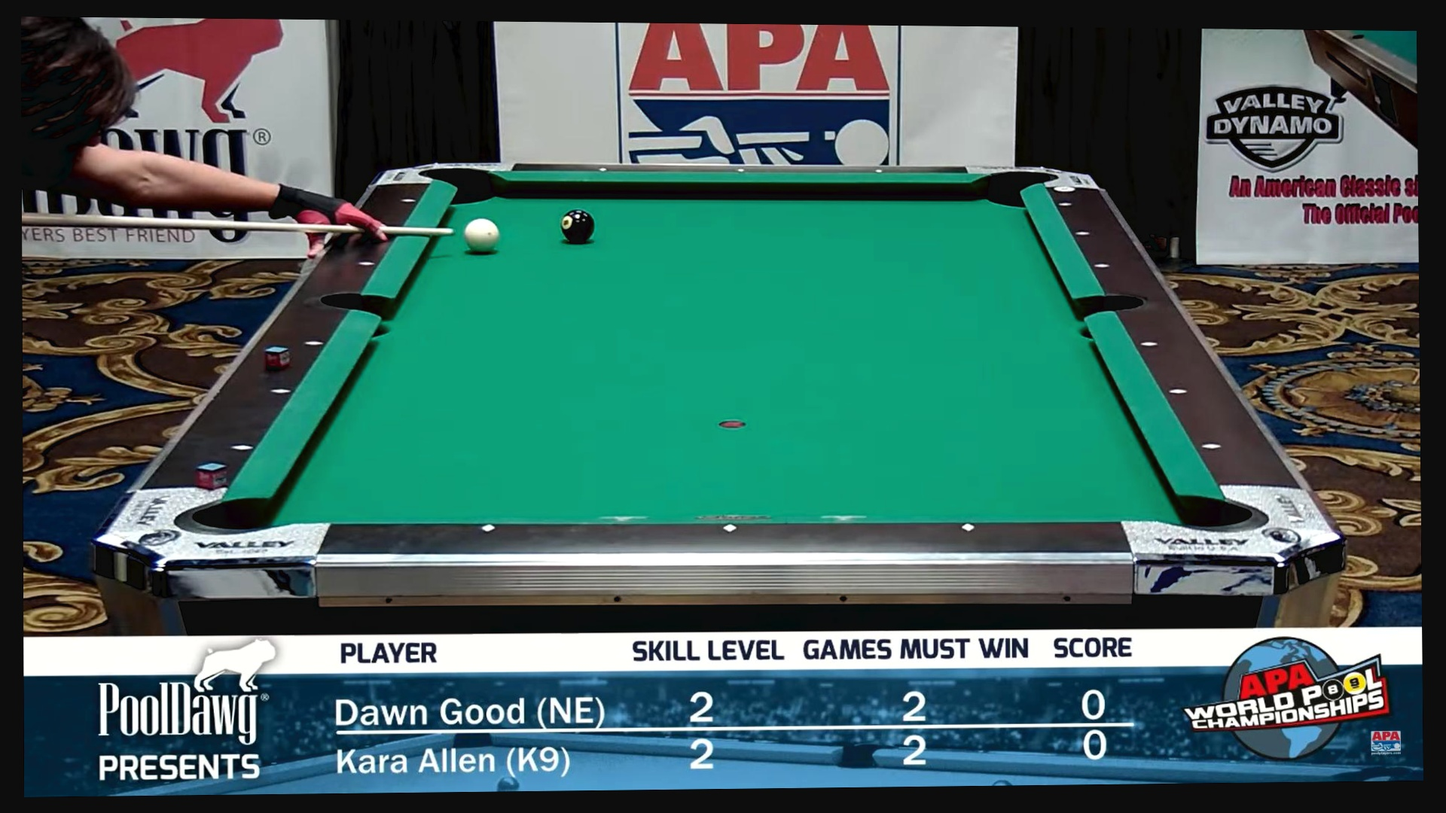Black: (304, 338, 321, 349), (358, 259, 375, 270), (594, 164, 611, 175), (732, 165, 749, 176), (1073, 227, 1090, 238), (1091, 259, 1108, 270), (1138, 338, 1155, 349), (959, 520, 976, 531), (721, 521, 738, 532), (1057, 199, 1073, 210), (480, 523, 496, 534), (233, 444, 250, 454), (271, 385, 288, 395), (1202, 442, 1219, 452), (400, 195, 416, 205), (871, 166, 887, 176), (1169, 388, 1185, 398)
Solid: (560, 208, 595, 244)
Stripe: (464, 217, 499, 254)
